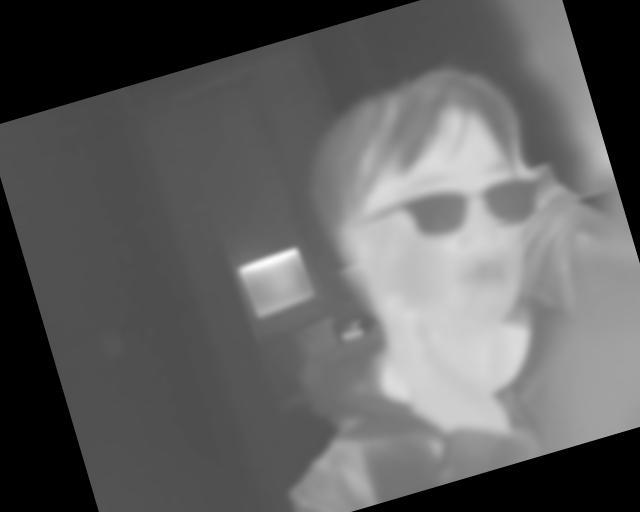face: (284, 52, 568, 362)
